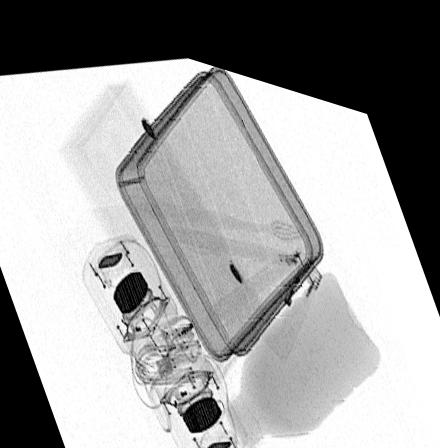Lighter: (256, 228, 321, 345)
